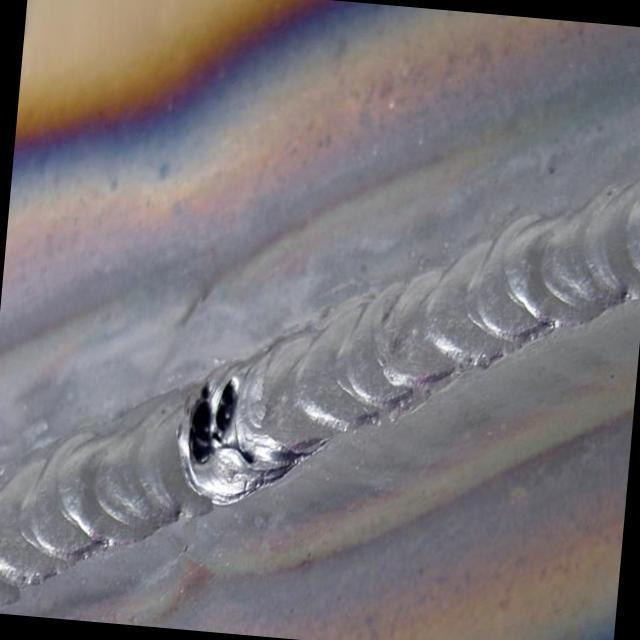defect: (180, 369, 244, 473)
